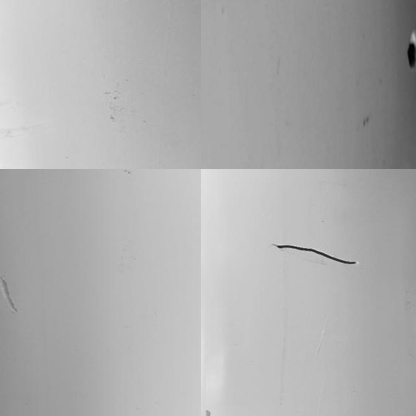fengxi: (273, 242, 361, 271)
sunshang: (3, 279, 19, 318)
